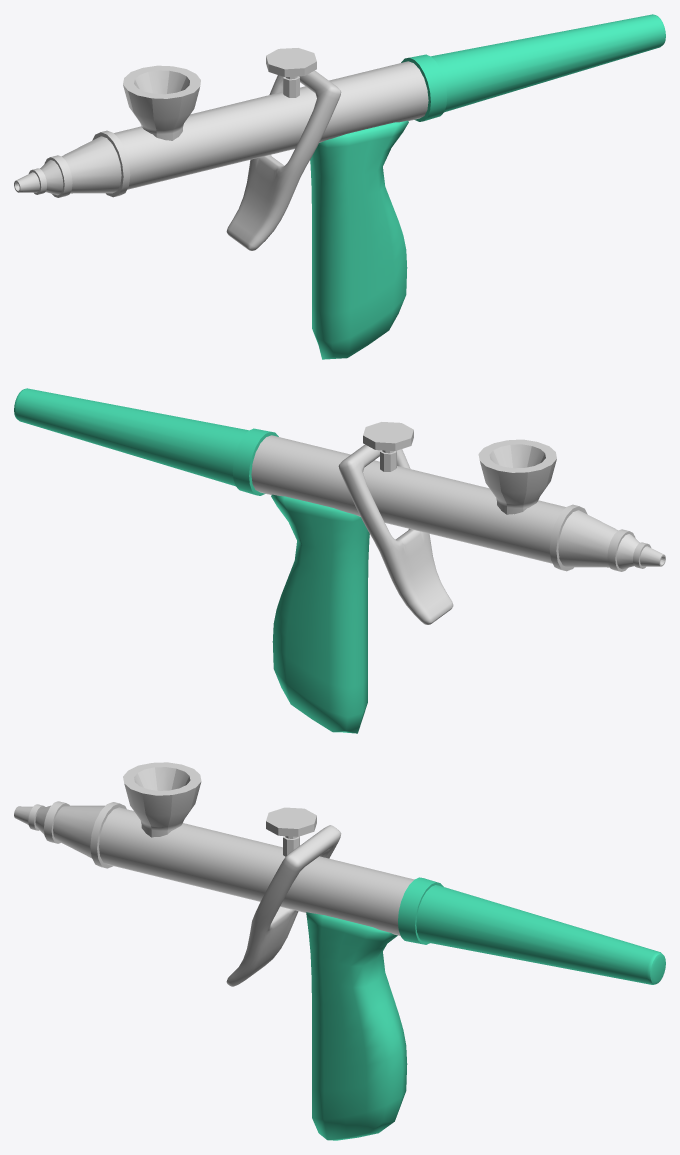
Rendered from Airbrush_s.fbx.
3 views of the same model, one above another, from view 1: azimuth 30°, elevation 25°; view 2: azimuth 150°, elevation 25°; view 3: azimuth 330°, elevation 25° (orthographic).
Visible parts, largest first — view 1: body_s, triger_s; view 2: body_s, triger_s; view 3: body_s, triger_s.
Part boxes in pixels (x1=…): body_s: x1=14, y1=14, x2=665, y2=359; triger_s: x1=226, y1=70, x2=341, y2=250; body_s: x1=14, y1=388, x2=665, y2=733; triger_s: x1=338, y1=444, x2=453, y2=624; body_s: x1=14, y1=762, x2=665, y2=1140; triger_s: x1=226, y1=825, x2=341, y2=986.
Bounding box in the file's own units: 21.03 × 9.98 × 2.64.
